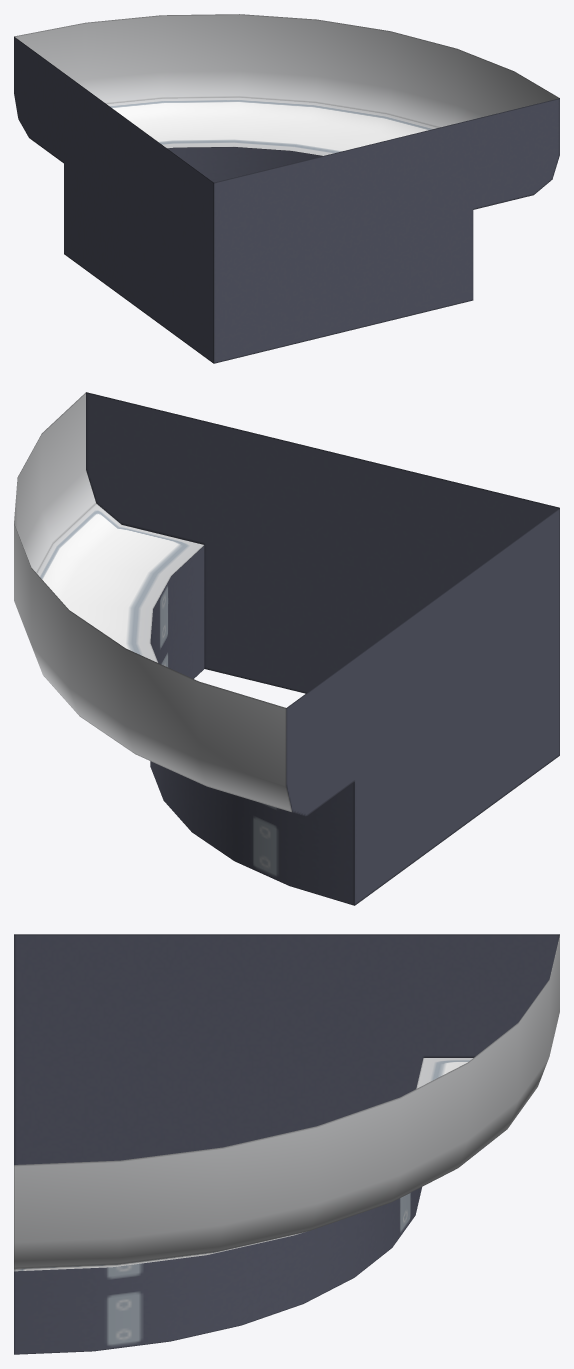
The model's file is Floor_Border_Corner_01.FBX.
3 renders of one model, top to bottom at view 1: azimuth 30°, elevation 25°; view 2: azimuth 150°, elevation 25°; view 3: azimuth 270°, elevation 25°, orthographic. The views are drawn at different scales.
Visible parts, largest first — view 1: Floor_Border_Corner_01; view 2: Floor_Border_Corner_01; view 3: Floor_Border_Corner_01.
Boxes of the visible parts, x1,y1,x2,y2 form: Floor_Border_Corner_01: (14,14,559,363); Floor_Border_Corner_01: (14,392,559,905); Floor_Border_Corner_01: (14,934,559,1354).
Size of the model in its own units: 2 by 1 by 2.
Materials: 2 (2 with a texture image).
